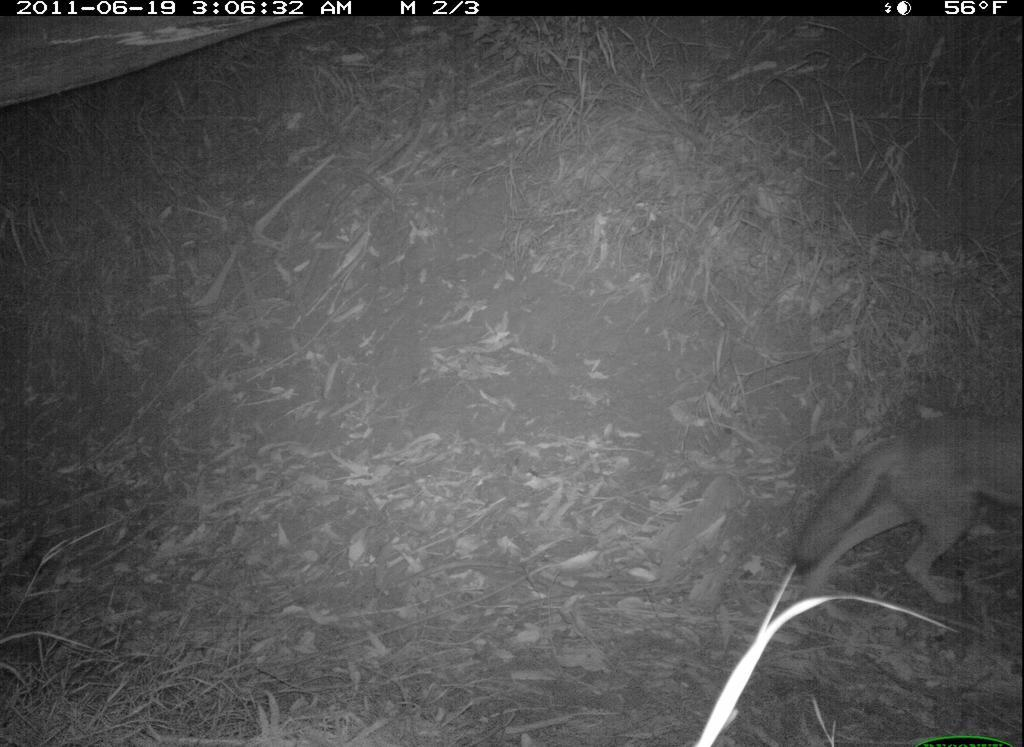coyote: (761, 401, 1023, 612)
